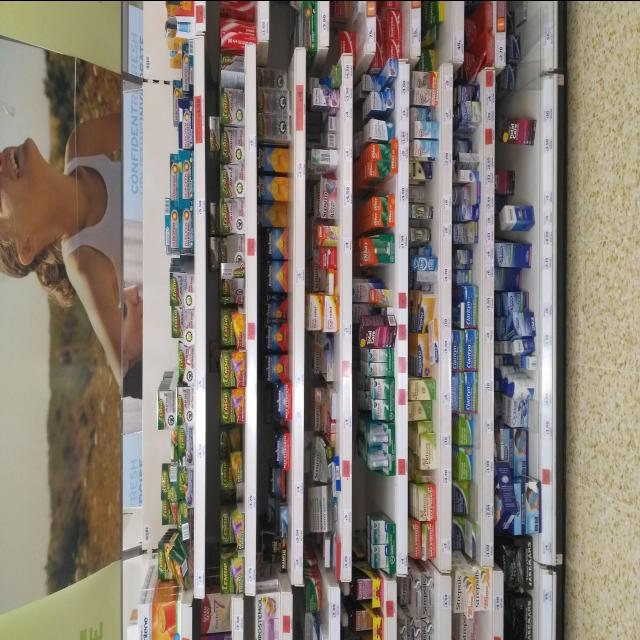empty_space: (499, 86, 537, 108), (359, 483, 393, 507)
